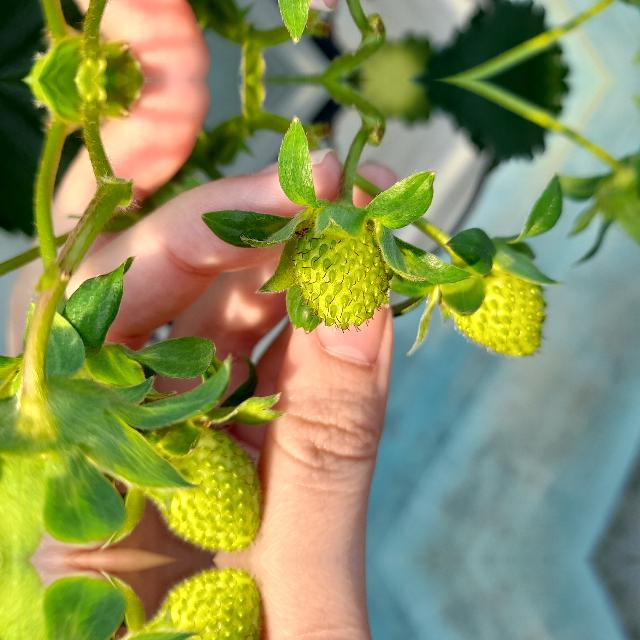Health_25: (140, 422, 266, 554), (287, 218, 393, 332), (442, 245, 546, 359), (140, 565, 265, 640)
